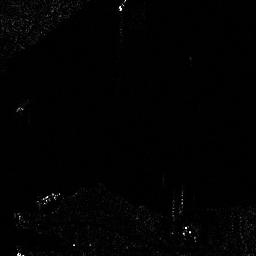ship: (35, 190, 62, 207)
